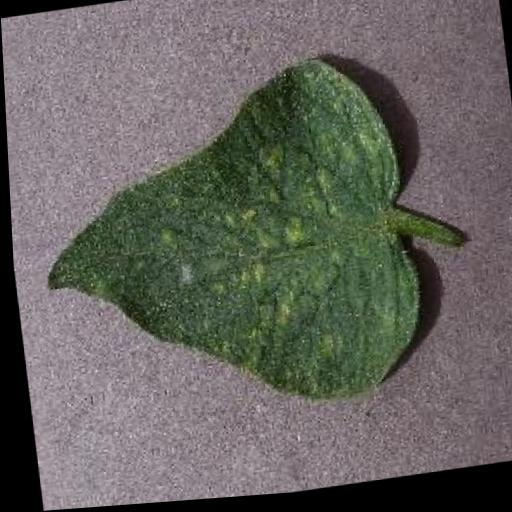Spider Mites: (21, 51, 428, 434)
